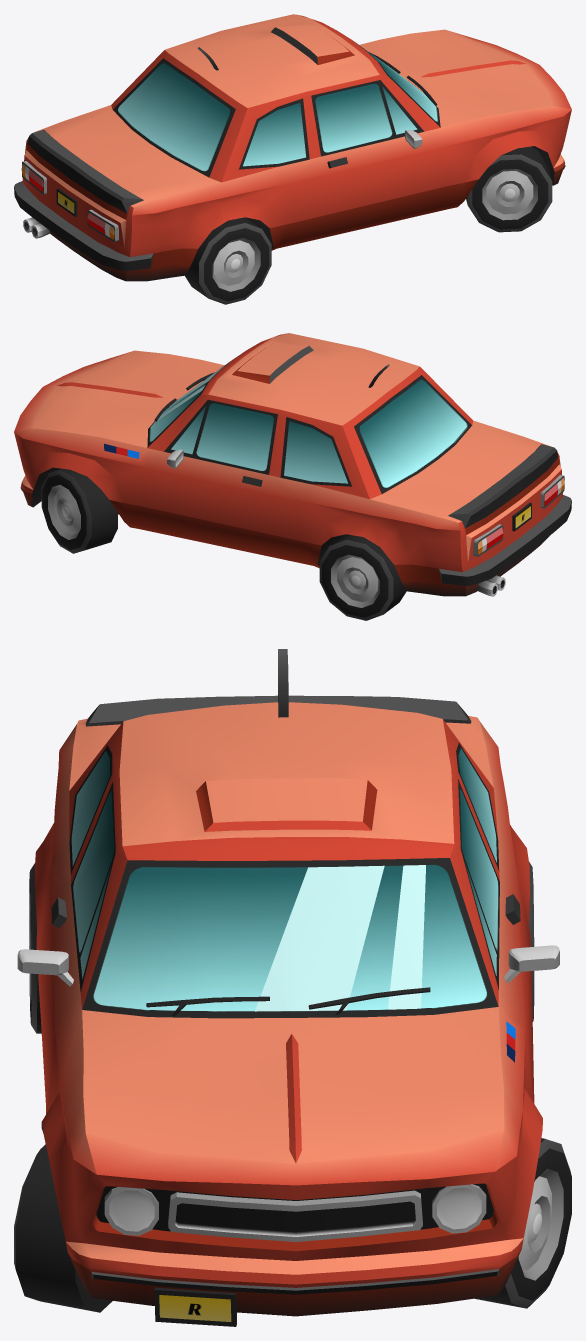
File: Car_168.glb
3 renders of one model, top to bottom at view 1: azimuth 30°, elevation 25°; view 2: azimuth 150°, elevation 25°; view 3: azimuth 270°, elevation 25°, orthographic. The views are drawn at different scales.
Visible parts, largest first — view 1: Car_168, wheel_1_Car_168_Wheel_1R, wheel_2_Car_168_Wheel_2R; view 2: Car_168, wheel_3_Car_168_Wheel_3L, wheel_0_Car_168_Wheel_1L; view 3: Car_168, wheel_1_Car_168_Wheel_1R, wheel_0_Car_168_Wheel_1L, wheel_2_Car_168_Wheel_2R.
Part boxes in pixels (bbox=[...]): Car_168: bbox=[14, 14, 571, 281]; wheel_1_Car_168_Wheel_1R: bbox=[466, 146, 552, 232]; wheel_2_Car_168_Wheel_2R: bbox=[185, 217, 271, 304]; Car_168: bbox=[14, 333, 571, 596]; wheel_3_Car_168_Wheel_3L: bbox=[319, 534, 406, 620]; wheel_0_Car_168_Wheel_1L: bbox=[41, 469, 117, 553]; Car_168: bbox=[17, 649, 559, 1326]; wheel_1_Car_168_Wheel_1R: bbox=[14, 1144, 112, 1312]; wheel_0_Car_168_Wheel_1L: bbox=[475, 1138, 571, 1308]; wheel_2_Car_168_Wheel_2R: bbox=[29, 863, 41, 1033].
Size of the model in its own units: 4.31 by 1.71 by 2.16.
Materials: 1 (1 with a texture image).
